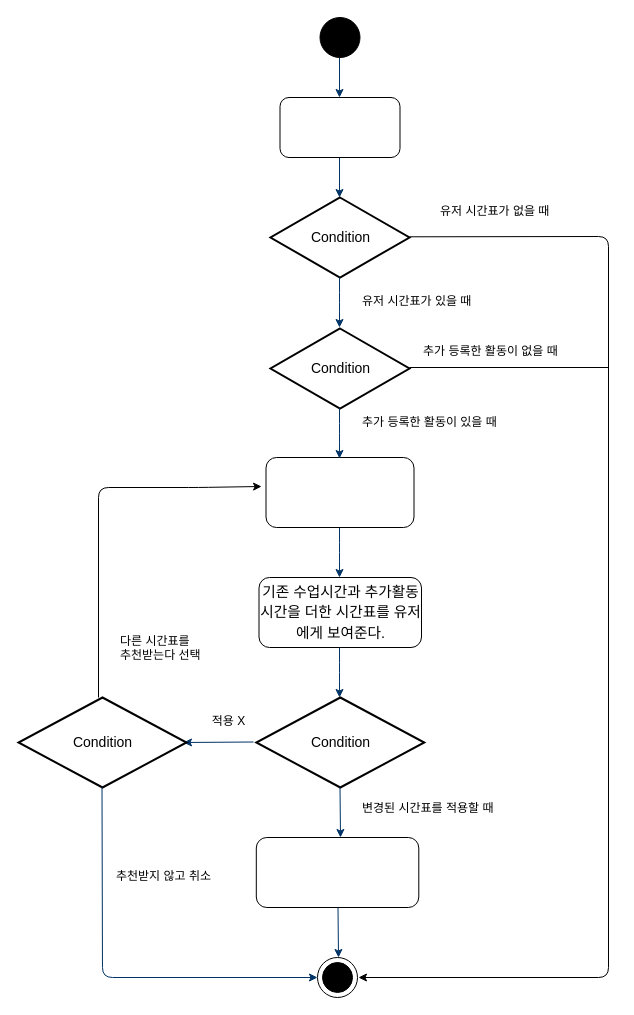
Some shapes in this 634 by 1015 pixel diagram are drawn without their labels. The shapes that lost their labels are listed below. From the top down, each one's centre as x and y in pixels, then its label:
At (x=339, y=127): "유저가 학습시간 추천 버튼을 누른다.".
At (x=339, y=492): "알고리즘에 맞게 추가 활동의 학습시간을 분배한다.".
At (x=337, y=872): "추가활동이 적용된 시간표로 업데이트 한다.".
